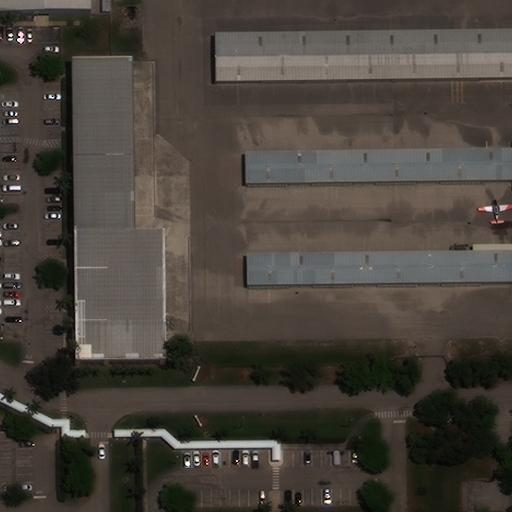Small Civil Transport: (477, 199, 511, 225)
